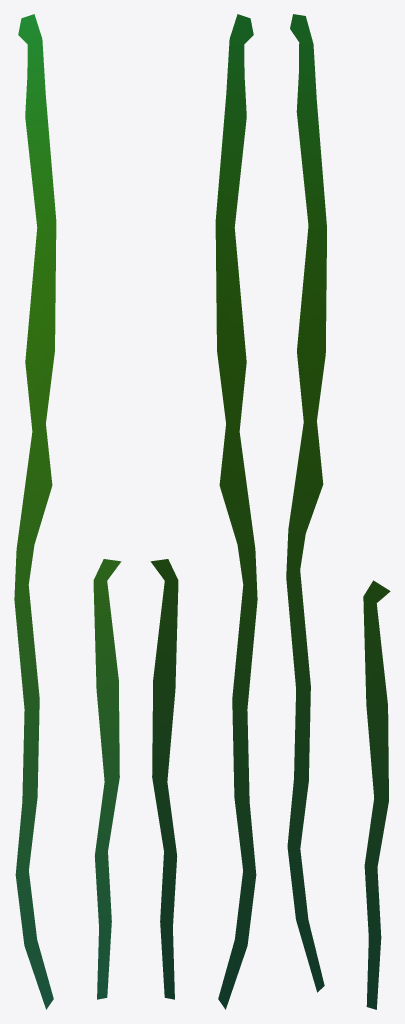
Rendered from algue03b.FBX.
3 views of the same model, side by side, from view 1: azimuth 30°, elevation 25°; view 2: azimuth 150°, elevation 25°; view 3: azimuth 330°, elevation 25° (orthographic). The views are drawn at different scales.
Parts seen in each view (by area): view 1: algue03b_04_LOD00, algue03b_03_LOD00, algue04b_02_LOD00, algue03b_02_LOD00, algue04b_03_LOD00, algue04b_01_LOD00, algue03b_01_LOD00; view 2: algue03b_04_LOD00, algue03b_03_LOD00, algue04b_02_LOD00, algue03b_02_LOD00, algue04b_03_LOD00, algue04b_01_LOD00, algue03b_01_LOD00; view 3: algue03b_04_LOD00, algue03b_03_LOD00, algue04b_02_LOD00, algue03b_02_LOD00, algue04b_03_LOD00, algue04b_01_LOD00, algue03b_01_LOD00.
Part boxes in pixels (x1,y1,x2,y2): algue03b_04_LOD00: (18,14,56,361); algue03b_03_LOD00: (14,351,54,708); algue04b_02_LOD00: (95,680,119,855); algue03b_02_LOD00: (15,699,39,874); algue04b_03_LOD00: (93,559,121,689); algue04b_01_LOD00: (94,851,111,999); algue03b_01_LOD00: (15,871,53,1009); algue03b_04_LOD00: (215,14,253,361); algue03b_03_LOD00: (217,351,257,708); algue04b_02_LOD00: (152,680,176,855); algue03b_02_LOD00: (232,699,256,874); algue04b_03_LOD00: (150,559,178,689); algue04b_01_LOD00: (160,851,177,999); algue03b_01_LOD00: (218,871,256,1009); algue03b_04_LOD00: (290,14,326,354); algue03b_03_LOD00: (286,351,325,689); algue04b_02_LOD00: (364,704,388,867); algue03b_02_LOD00: (287,686,310,848); algue04b_03_LOD00: (363,580,390,705); algue04b_01_LOD00: (364,865,381,1009); algue03b_01_LOD00: (287,846,324,992).
Size of what is drawn, in the model's own units: 4.66 by 41.57 by 1.12e-05.
